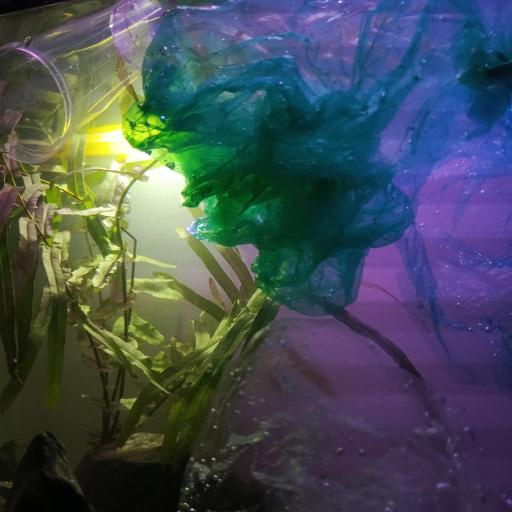plastic_bag: (154, 0, 512, 384), (132, 19, 402, 314), (177, 313, 512, 512)
plastic_cup: (0, 0, 168, 162)
plastic_straw: (74, 136, 134, 160)
